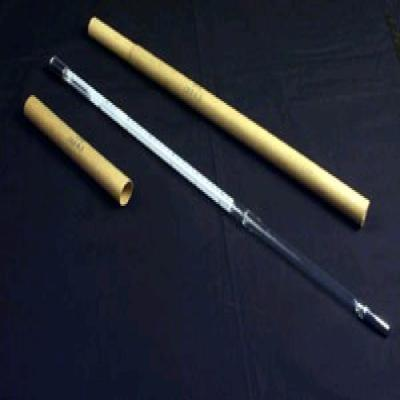technique: (47, 55, 391, 339)
